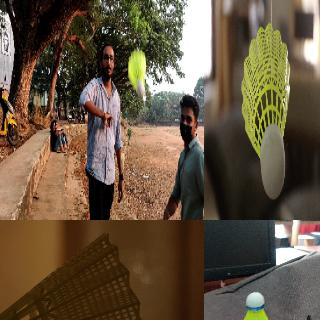shuttlecock: (0, 233, 155, 319), (241, 22, 290, 199), (234, 291, 276, 319), (128, 50, 146, 98)
